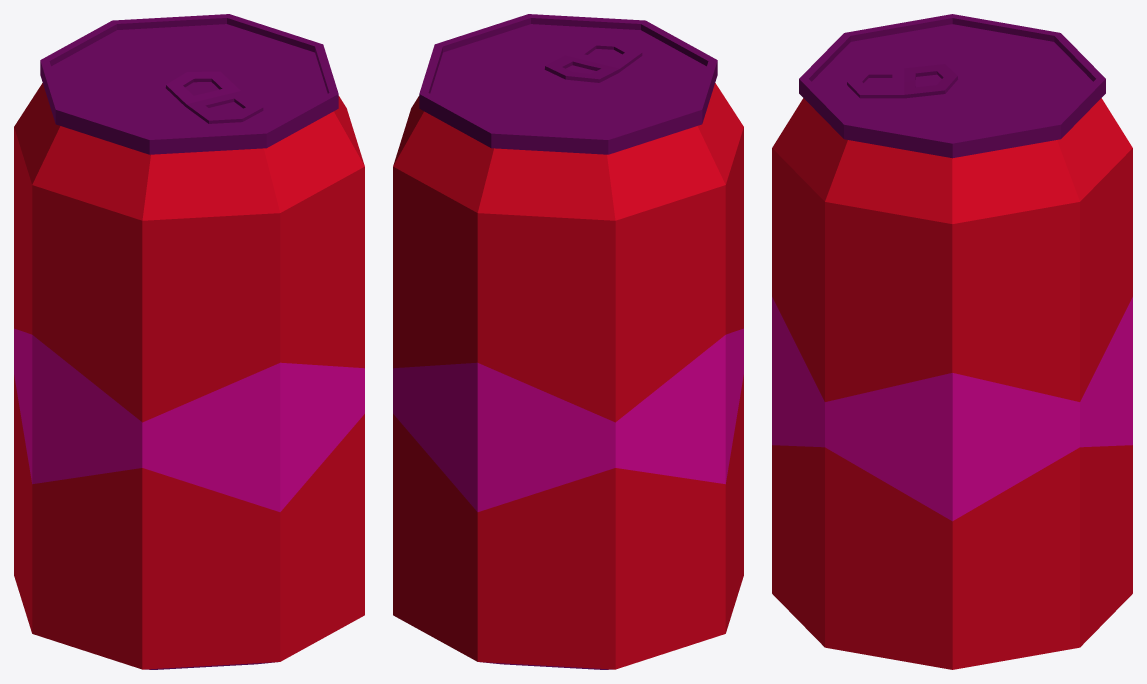
Rendered from SodaCan_01.fbx.
The picture shows the model from 3 angles, left to right: view 1: azimuth 30°, elevation 25°; view 2: azimuth 150°, elevation 25°; view 3: azimuth 270°, elevation 25°; orthographic projection.
Parts seen in each view (by area): view 1: SodaCan_01; view 2: SodaCan_01; view 3: SodaCan_01.
Part boxes in pixels (left/top/right/bottom): SodaCan_01: left=14, top=14, right=364, bottom=669; SodaCan_01: left=393, top=14, right=743, bottom=669; SodaCan_01: left=772, top=14, right=1132, bottom=669.
Bounding box in the file's own units: 4.28 × 7.04 × 4.28.
